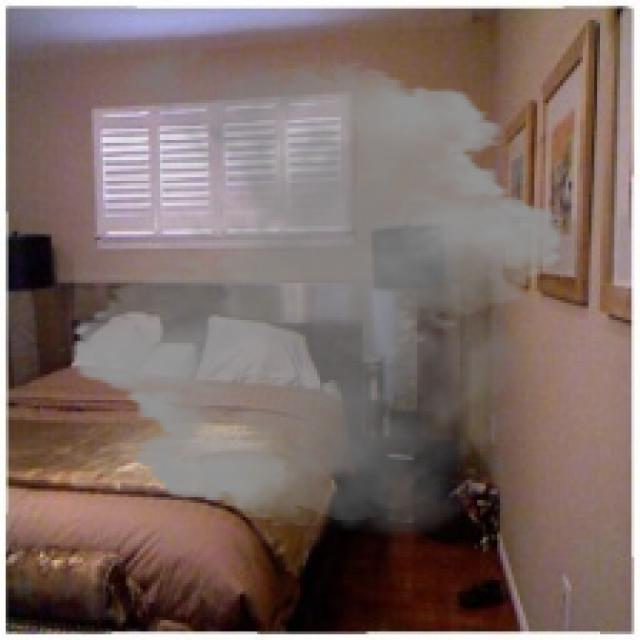smoke: (54, 26, 580, 548)
